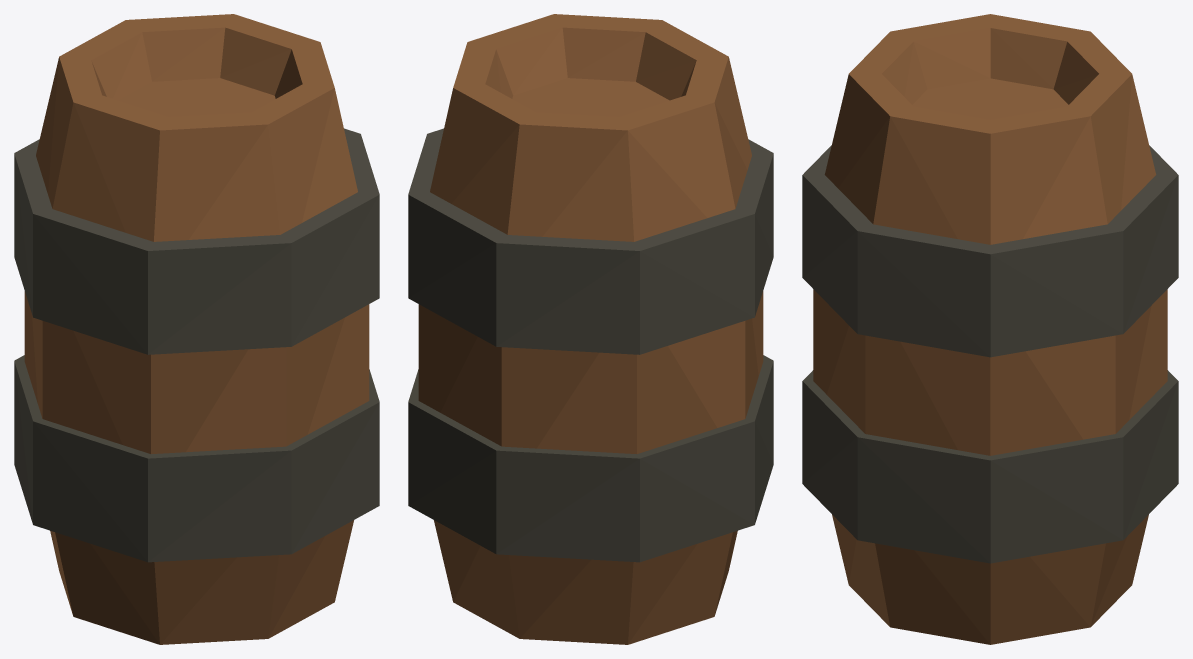
File: barrel.glb
The picture shows the model from 3 angles, left to right: view 1: azimuth 30°, elevation 25°; view 2: azimuth 150°, elevation 25°; view 3: azimuth 270°, elevation 25°; orthographic projection.
Visible parts, largest first — view 1: structure; view 2: structure; view 3: structure.
Part boxes in pixels (<box>): structure: <box>14,14,379,644</box>; structure: <box>408,14,773,644</box>; structure: <box>802,14,1178,644</box>.
Size of the model in its own units: 0.6 by 0.9 by 0.6.
